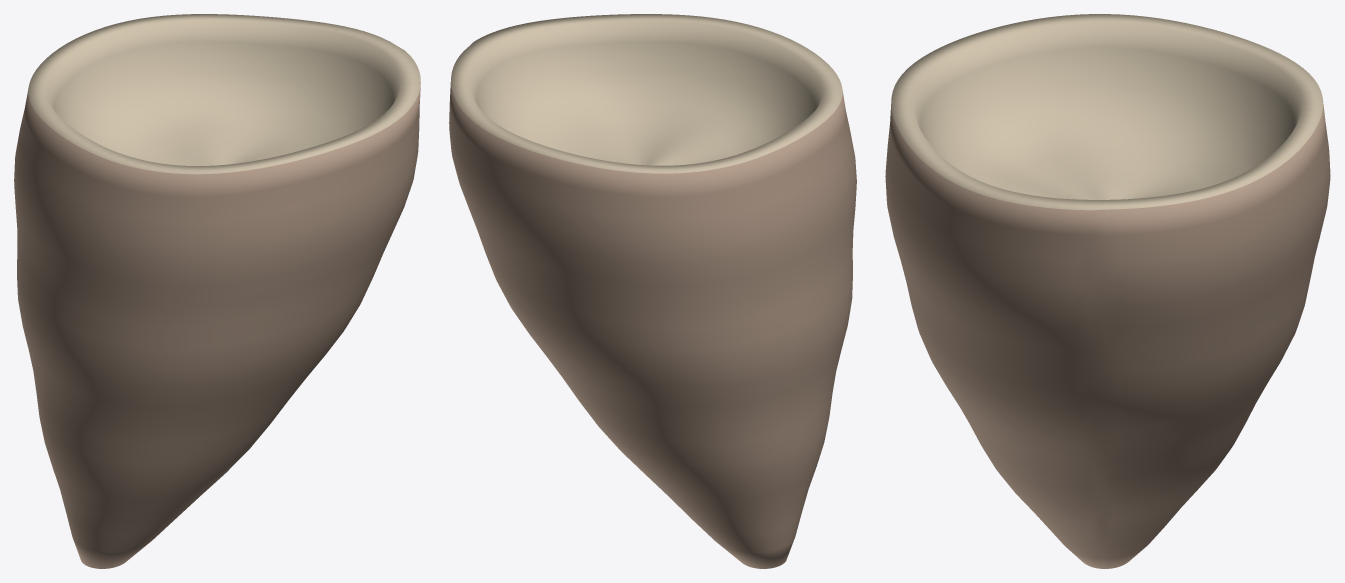
Rendered from cystiphyllum.glb.
3 views of the same model, side by side, from view 1: azimuth 30°, elevation 25°; view 2: azimuth 150°, elevation 25°; view 3: azimuth 270°, elevation 25° (orthographic). The views are drawn at different scales.
Visible parts, largest first — view 1: inflated-curved-solitary-cup-with-shallow-vesicular-floor; view 2: inflated-curved-solitary-cup-with-shallow-vesicular-floor; view 3: inflated-curved-solitary-cup-with-shallow-vesicular-floor.
Boxes of the visible parts, x1,y1,x2,y2 form: inflated-curved-solitary-cup-with-shallow-vesicular-floor: (14,14,420,568); inflated-curved-solitary-cup-with-shallow-vesicular-floor: (449,14,856,568); inflated-curved-solitary-cup-with-shallow-vesicular-floor: (885,14,1330,568).
Bounding box in the file's own units: 0.0856 × 0.1005 × 0.0788.
